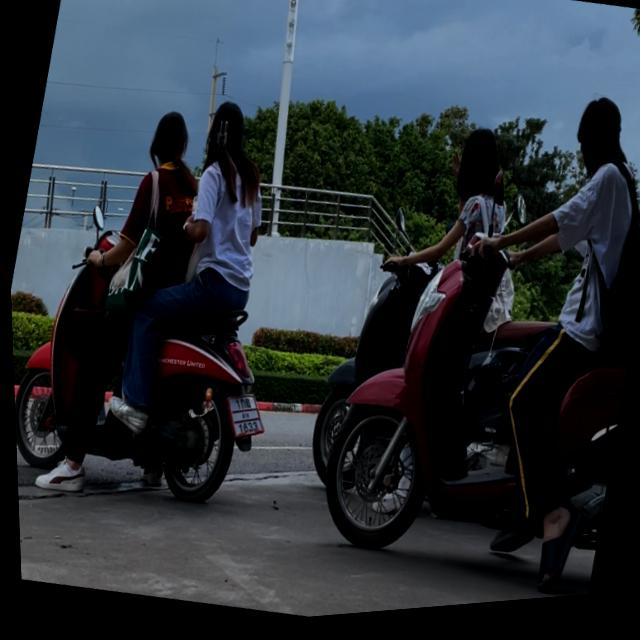seatbelt: (565, 99, 630, 189), (450, 130, 504, 205), (198, 98, 250, 170), (144, 108, 193, 174)
